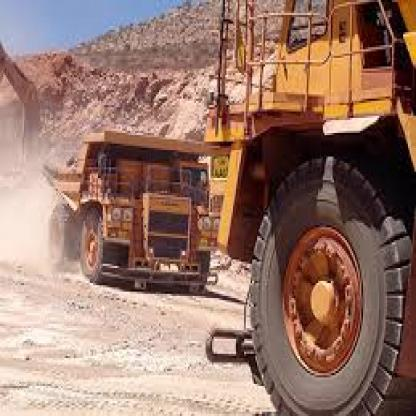dump_truck: (32, 113, 222, 304)
